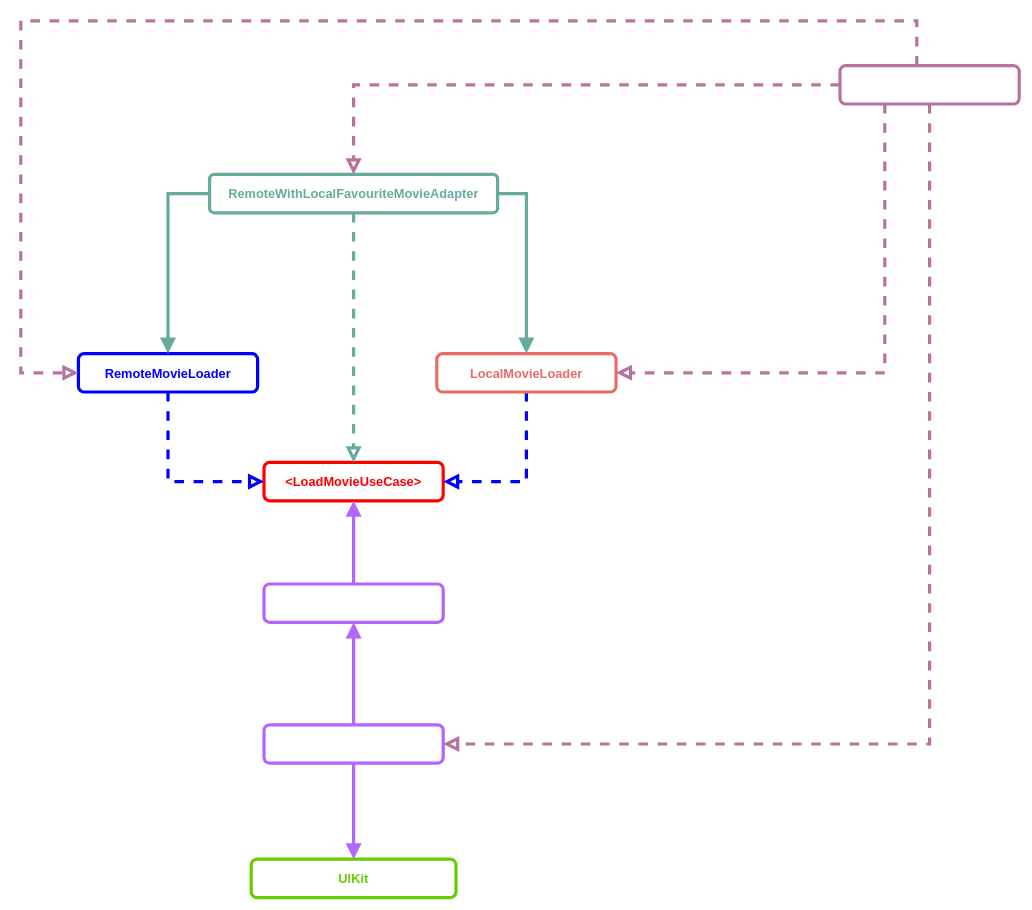
The diagram is 1032 pixels wide and 910 high, and some of its shapes have lost their labels. The shapes that lost their labels are listed below. From the top down, each one's centre as x and y in pixels, then its label:
the point at 929,84: Main
the point at 353,603: MoviesViewModel
the point at 353,743: MovieListViewController
